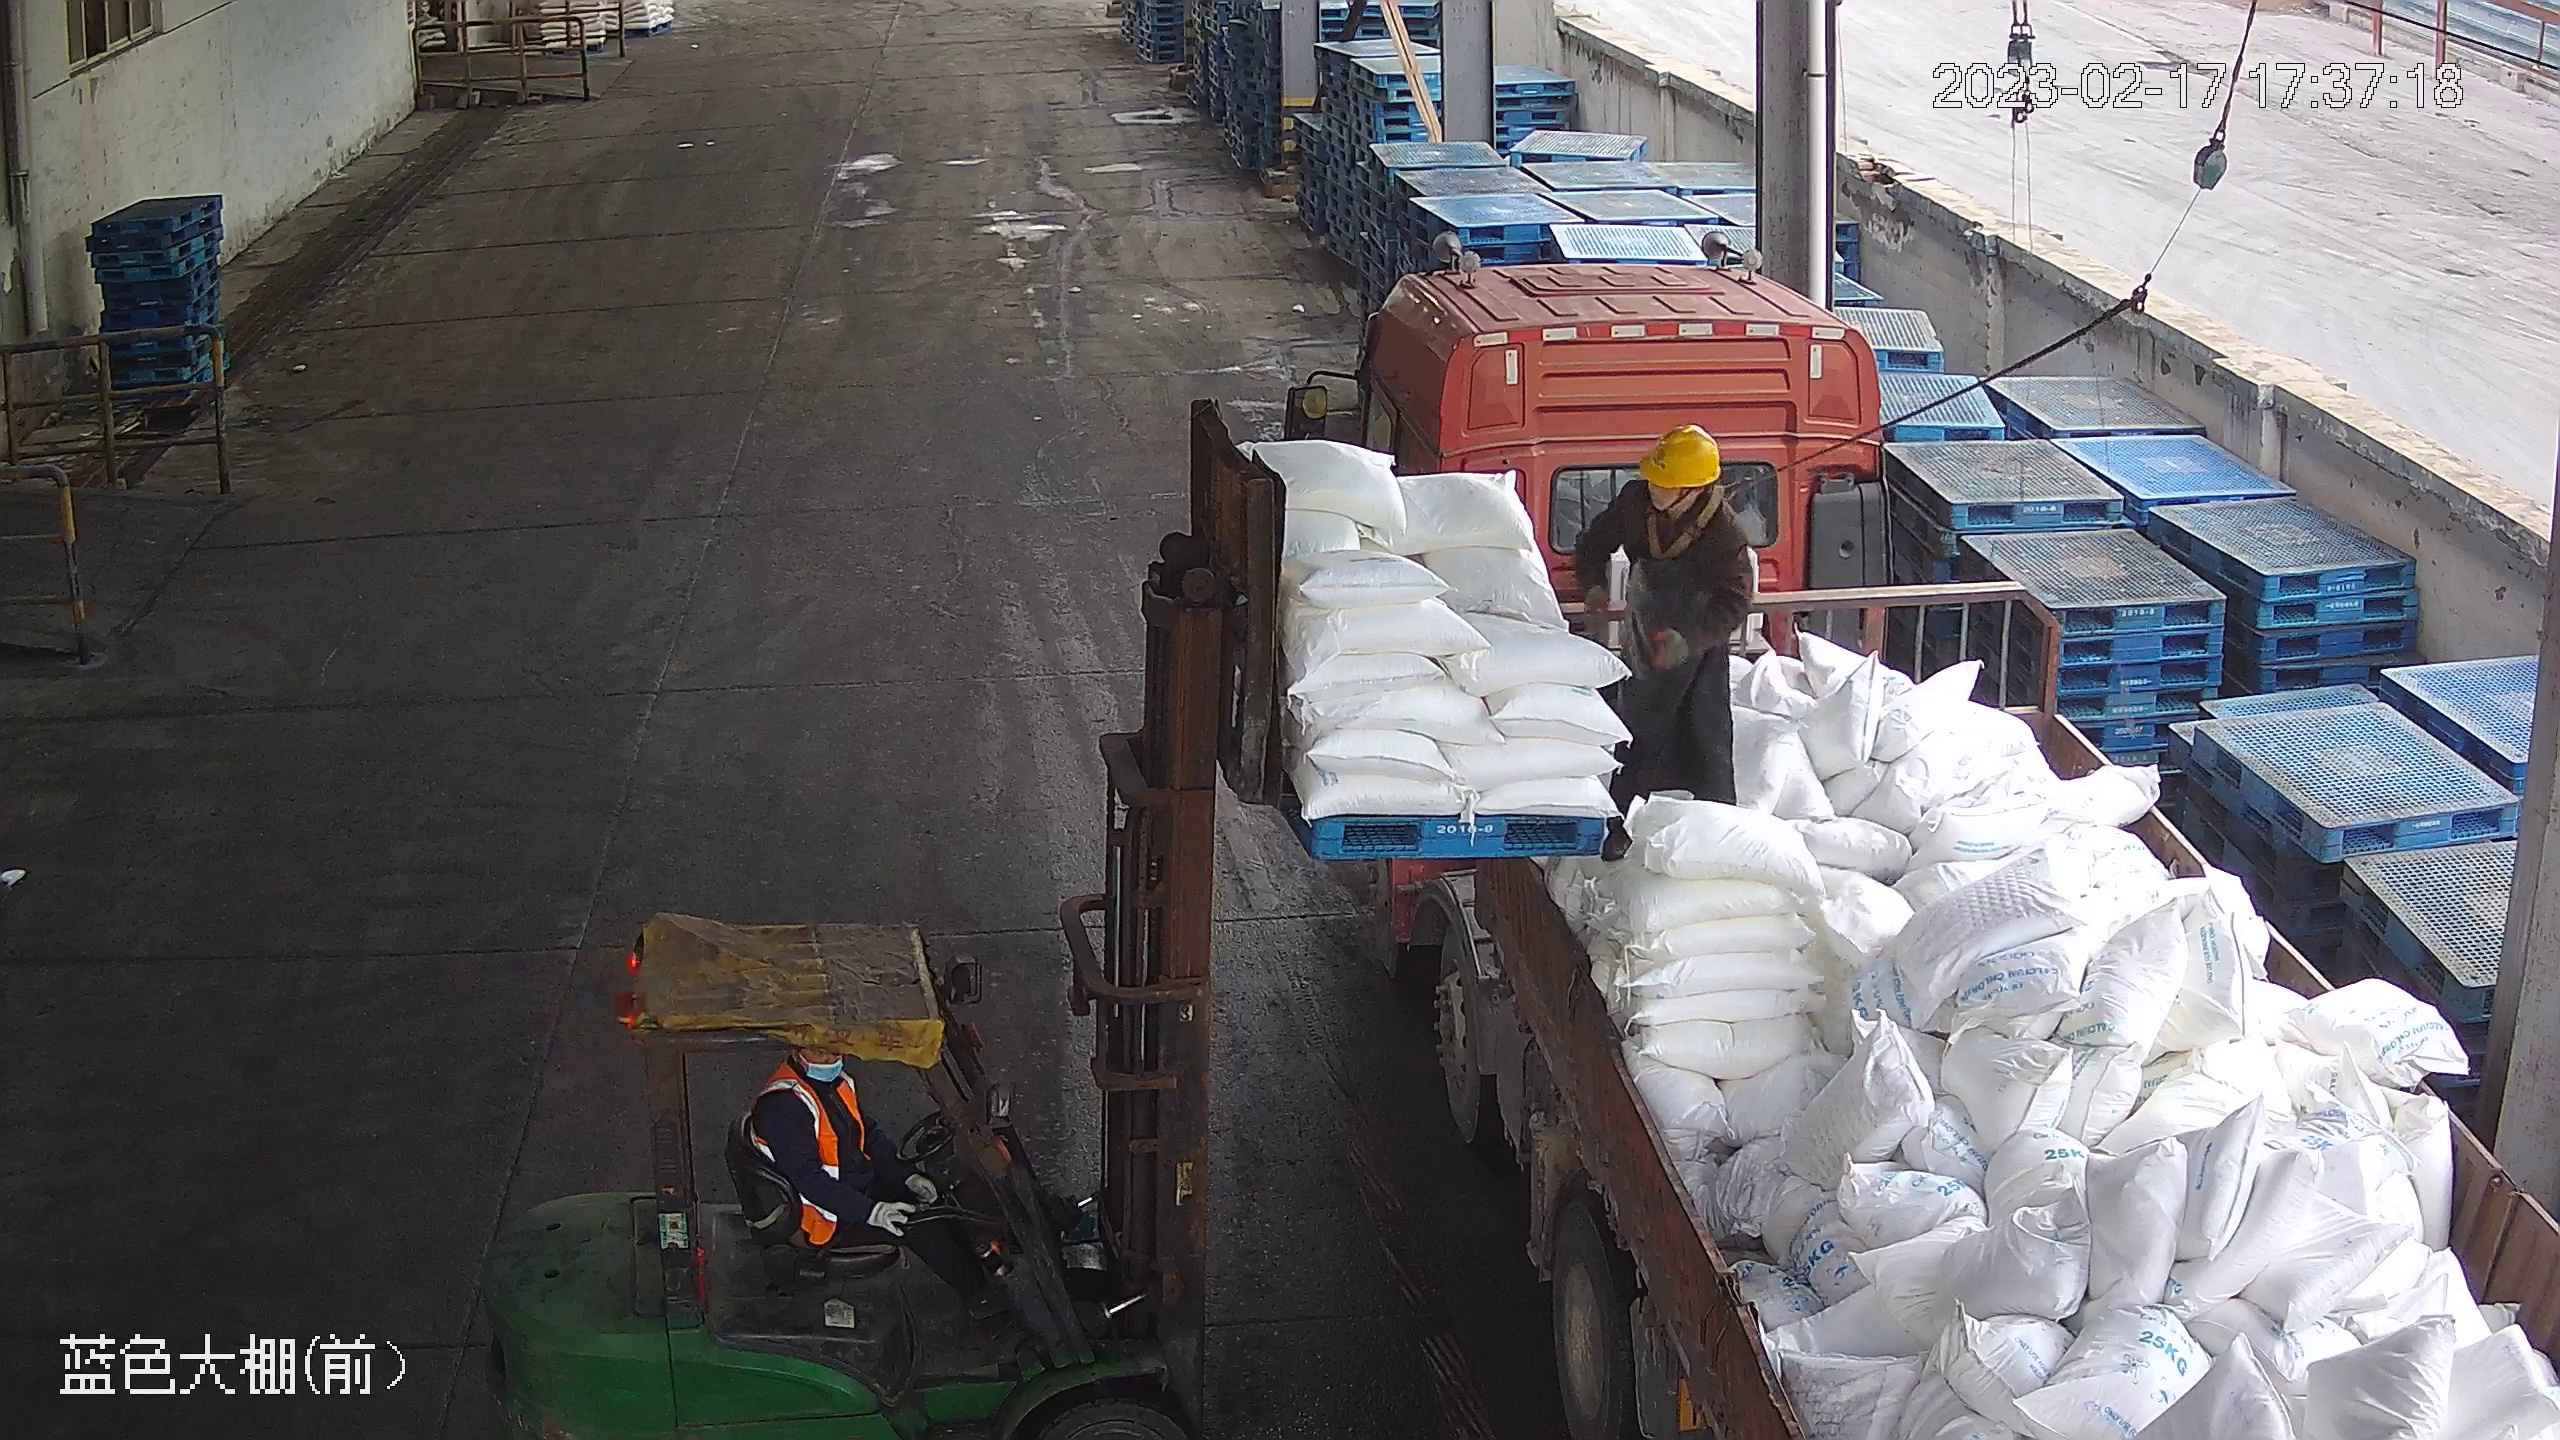belt: (1634, 475, 1749, 559)
head: (1604, 419, 1748, 546), (746, 1035, 878, 1142)
helmet: (1637, 419, 1722, 492)
people: (1566, 418, 1761, 860), (738, 1035, 985, 1335)
truck: (1286, 230, 2560, 1440)
